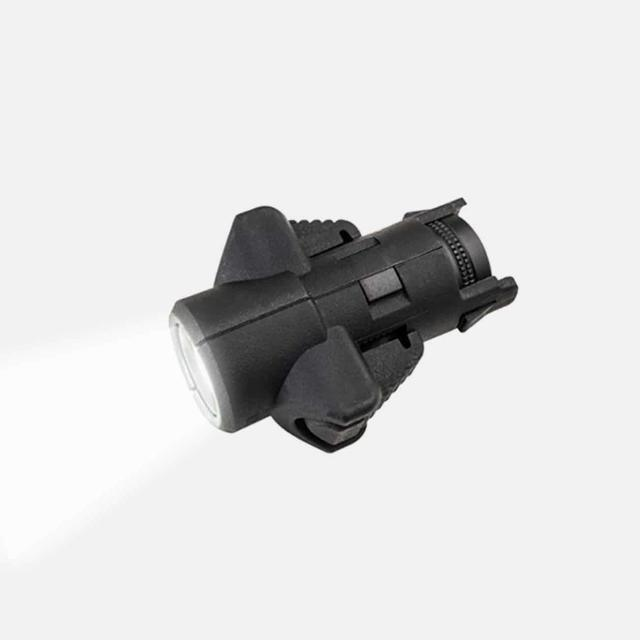Flashlight: (159, 190, 526, 460)
